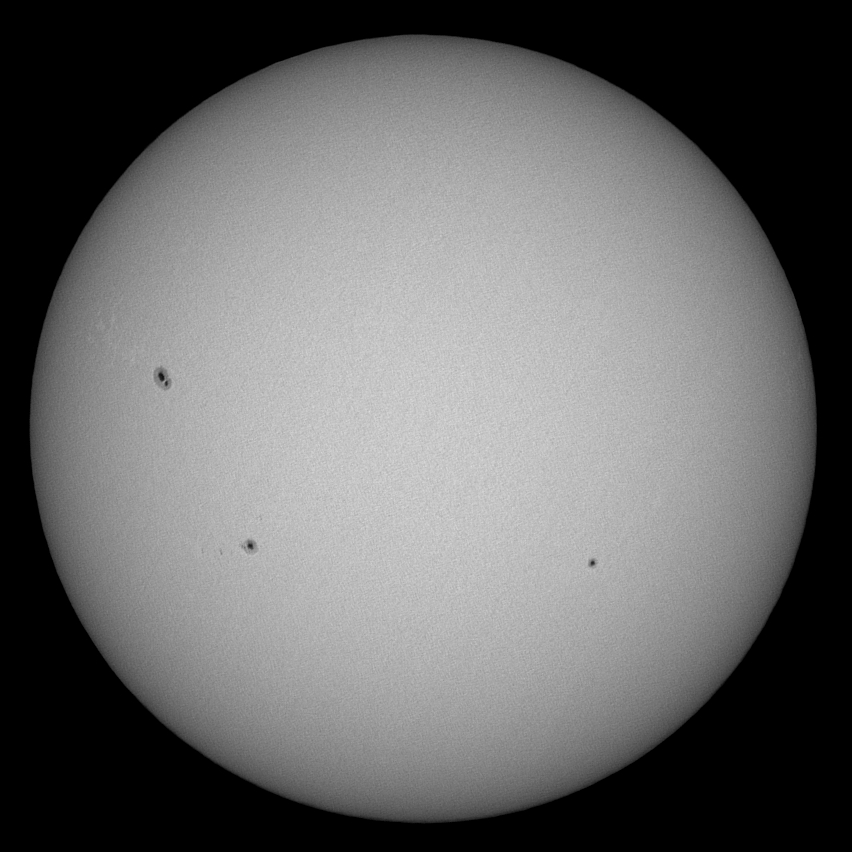sunspot: (149, 363, 178, 393), (238, 536, 262, 557), (584, 553, 602, 572)
